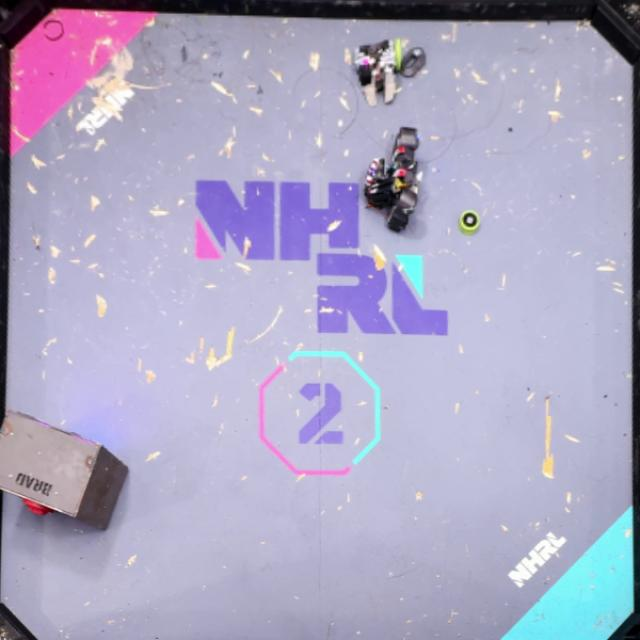housebot: (2, 411, 132, 534)
robot: (362, 126, 420, 233), (343, 40, 406, 106)
